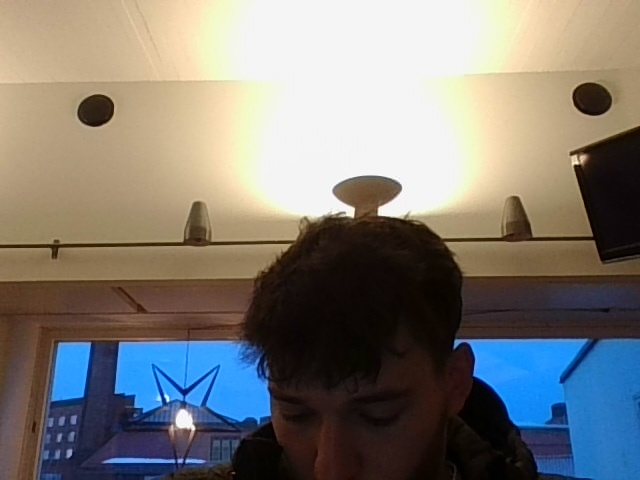head: (233, 211, 476, 480)
